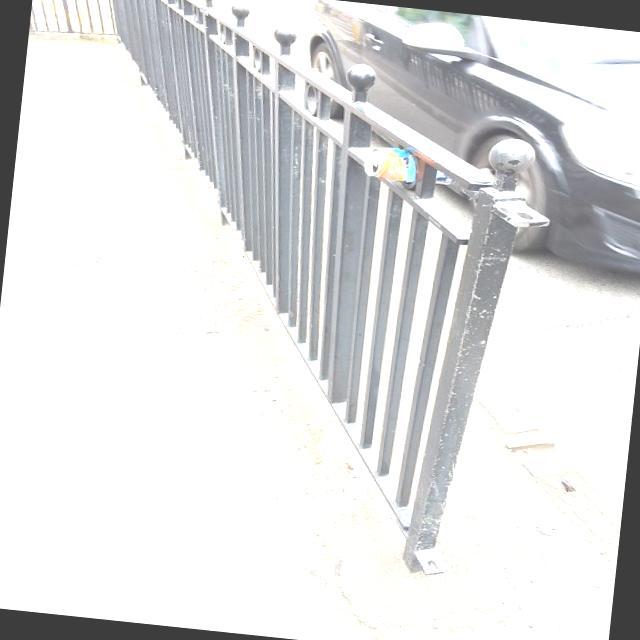Recycle: (360, 141, 468, 191)
